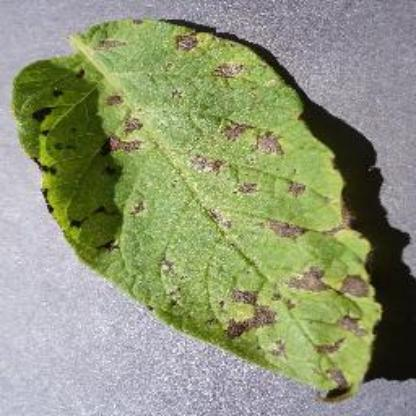Early-Blight: (9, 7, 397, 405)
